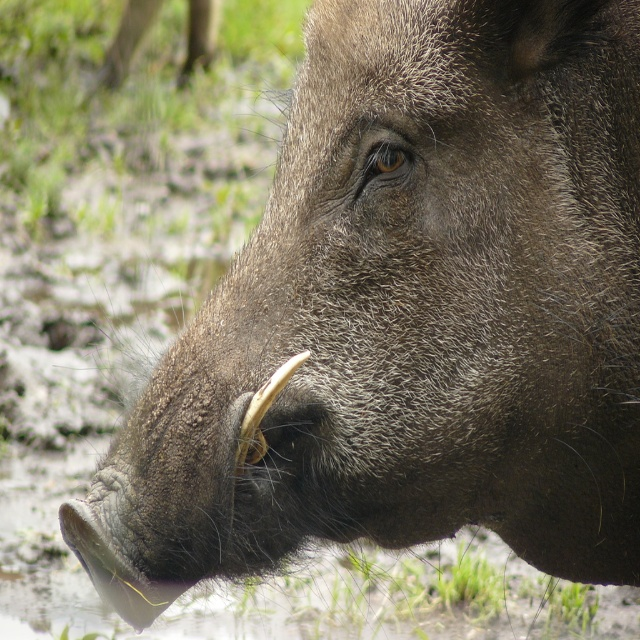Pig: (51, 0, 640, 640)
